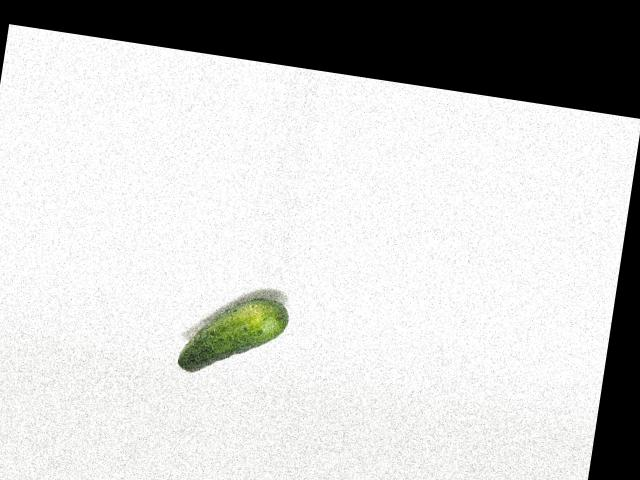cucumber: (176, 287, 290, 384)
